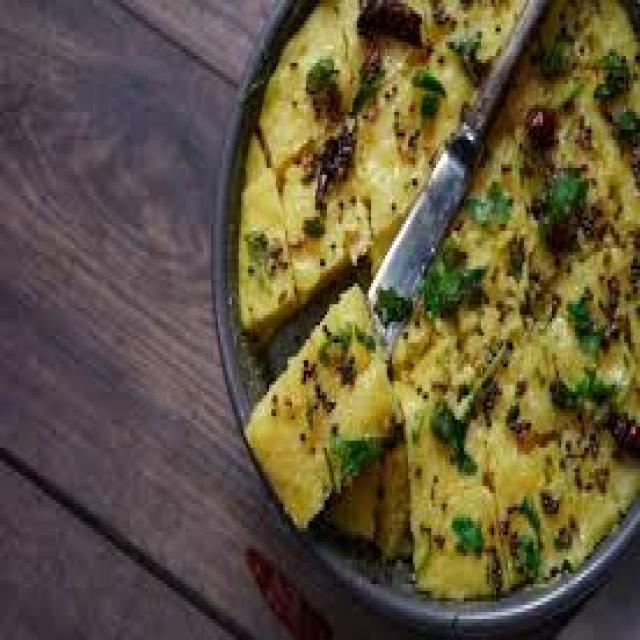DHOKLA: (249, 284, 403, 525), (403, 335, 505, 601), (434, 139, 539, 389), (481, 321, 579, 574), (357, 35, 475, 236), (518, 103, 638, 267), (542, 225, 635, 431), (279, 127, 365, 315), (565, 352, 637, 560), (266, 0, 350, 170), (238, 165, 295, 348), (341, 0, 428, 98)
